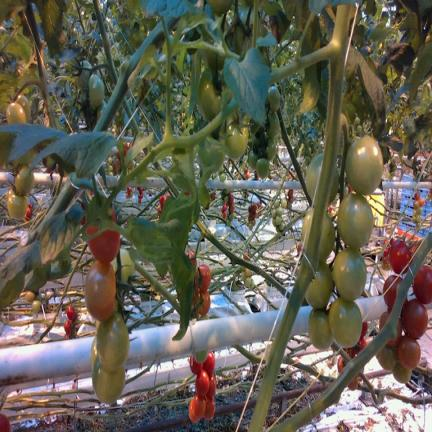6kp_peduncle: (11, 57, 51, 105), (324, 89, 349, 162), (89, 41, 117, 83), (194, 221, 214, 258)
6kp_petiole: (300, 4, 352, 112)
MainStem: (249, 6, 352, 432), (269, 230, 432, 432), (92, 21, 165, 131), (196, 219, 291, 299), (26, 1, 58, 129), (277, 107, 312, 207), (135, 261, 180, 314), (93, 1, 118, 86)
tomato: (345, 136, 383, 194), (338, 193, 374, 248), (96, 312, 129, 371), (86, 207, 120, 263), (85, 262, 116, 321), (333, 248, 366, 300), (306, 153, 339, 204), (302, 210, 335, 260), (329, 298, 362, 347), (92, 358, 125, 403), (305, 261, 333, 309), (220, 113, 248, 160), (197, 70, 221, 121), (402, 298, 428, 338), (308, 309, 333, 350), (379, 310, 402, 346), (396, 336, 420, 369), (389, 240, 411, 274), (413, 266, 432, 303), (383, 275, 402, 310), (15, 165, 34, 194), (89, 74, 104, 108), (376, 345, 396, 370), (7, 194, 27, 218), (76, 60, 91, 91), (392, 360, 412, 382), (196, 264, 211, 292), (6, 102, 27, 122), (16, 94, 31, 122), (195, 370, 209, 396), (196, 289, 210, 315), (192, 394, 206, 419), (266, 113, 279, 138), (202, 351, 215, 376), (268, 86, 280, 112), (256, 158, 269, 179), (76, 92, 86, 119), (203, 398, 215, 420), (189, 355, 202, 374), (189, 398, 199, 422), (90, 336, 97, 369), (96, 101, 106, 122), (207, 375, 216, 398), (248, 150, 258, 170), (267, 139, 276, 160), (347, 344, 360, 358), (355, 335, 366, 351), (0, 414, 10, 431), (348, 375, 358, 390), (67, 305, 75, 321), (64, 319, 72, 334), (337, 356, 344, 373), (360, 322, 367, 339), (25, 290, 34, 302), (32, 300, 40, 313), (276, 206, 284, 216), (275, 215, 282, 226), (244, 277, 251, 287), (244, 268, 251, 277), (356, 125, 362, 135), (281, 198, 287, 208), (35, 292, 41, 301), (219, 173, 225, 182), (250, 278, 255, 288), (419, 198, 425, 206), (414, 192, 420, 200), (414, 200, 419, 209), (274, 199, 279, 208), (279, 222, 284, 231), (416, 214, 421, 222), (248, 222, 253, 230), (219, 166, 224, 174), (272, 209, 276, 218), (241, 270, 245, 279), (418, 206, 422, 214), (246, 221, 252, 226), (108, 165, 113, 171), (413, 209, 417, 216), (387, 172, 391, 179), (251, 219, 255, 226), (108, 157, 112, 164), (412, 217, 416, 223), (272, 218, 275, 226), (417, 222, 420, 228)
